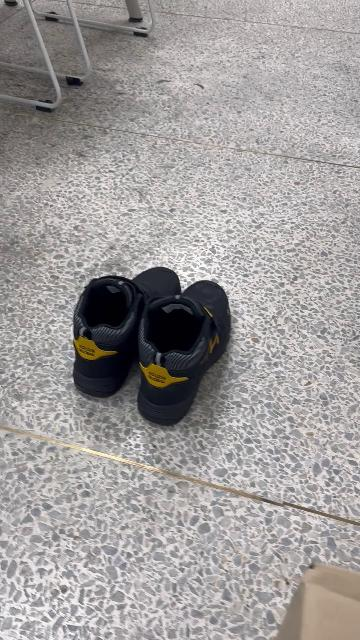shoe_worn: (71, 267, 183, 399), (135, 279, 233, 428)
